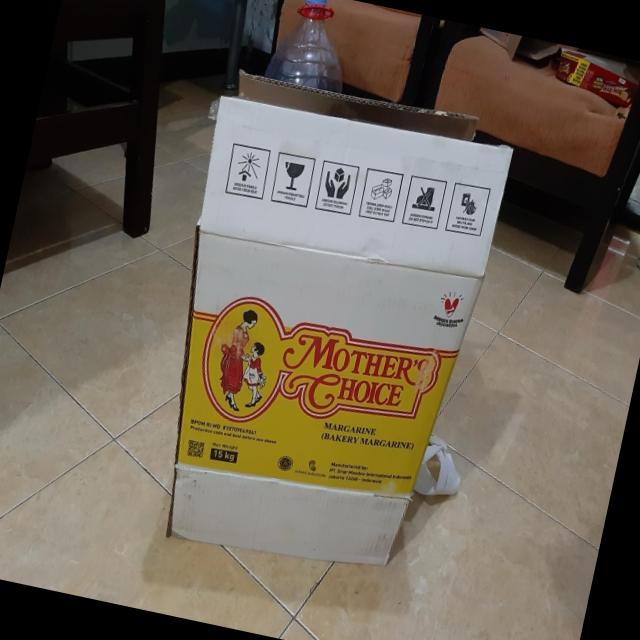Kardus: (126, 66, 518, 590), (207, 304, 260, 412), (235, 338, 274, 409)
